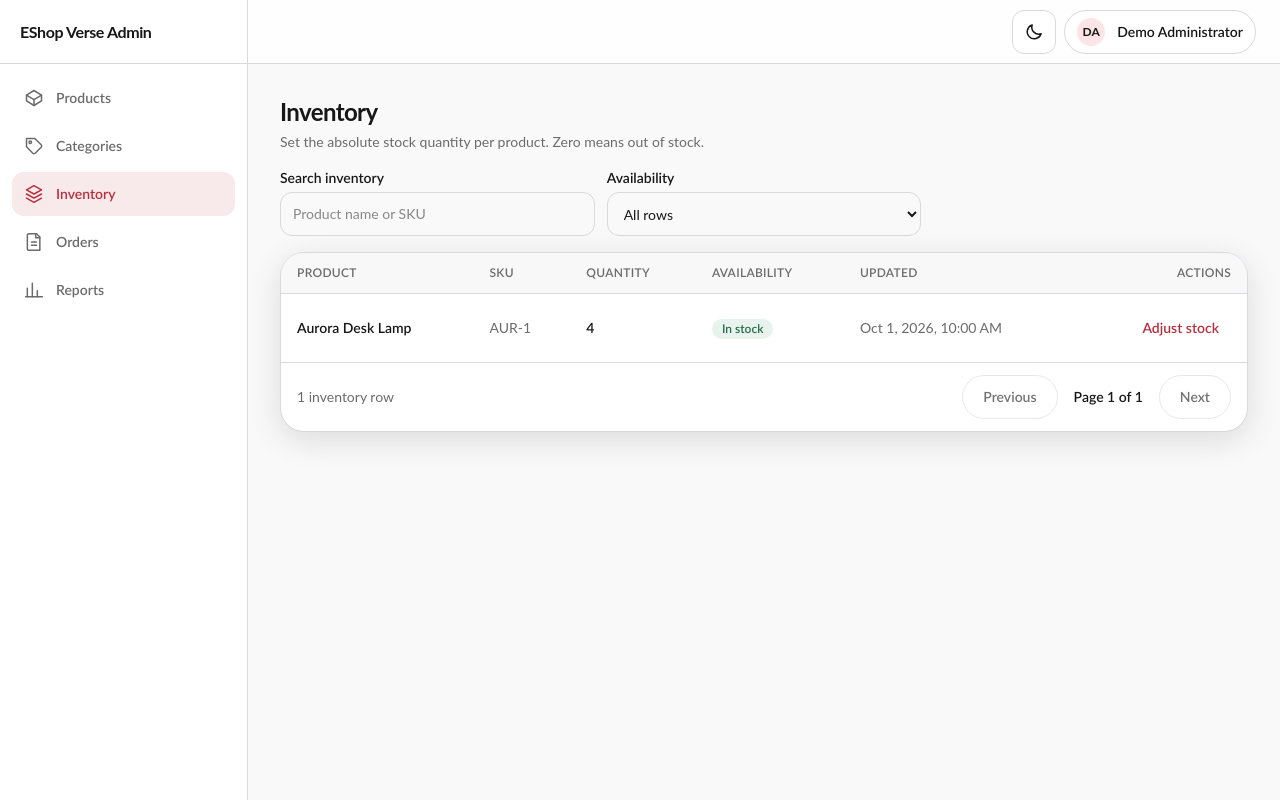
InventoryPage (A-05) › adjust_stock_validates_and_saves_the_absolute_quantity
This screenshot has width=1280, height=800.
Click the button with aria-label "Adjust stock for Aurora Desk Lamp": (1181, 328) [1130,306,1231,350]
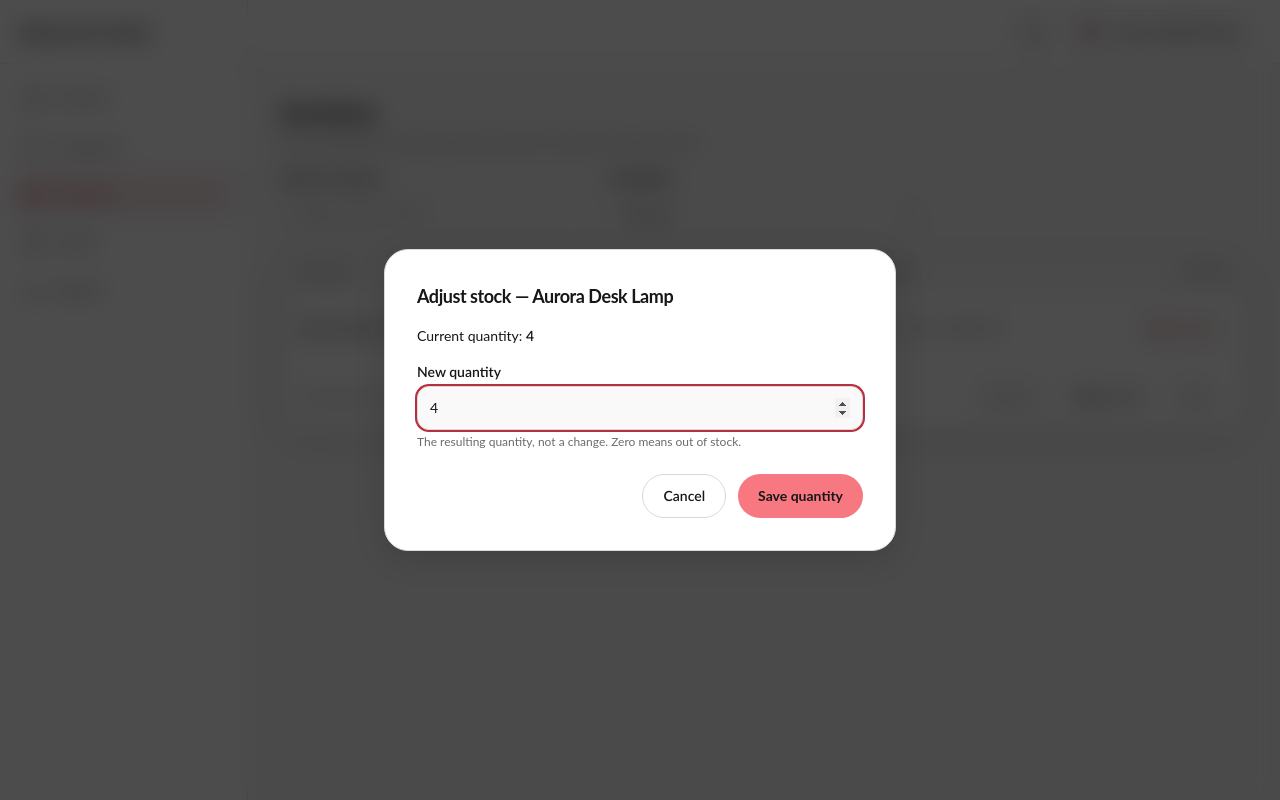
expect the text "Current quantity: 4" is shown: met, box [417,327,534,344]
Replace the text in the number field labelled "New quantity" with "-1": (640, 408) [417,386,863,430]
Click the button "Save quantity": (801, 496) [738,474,863,518]
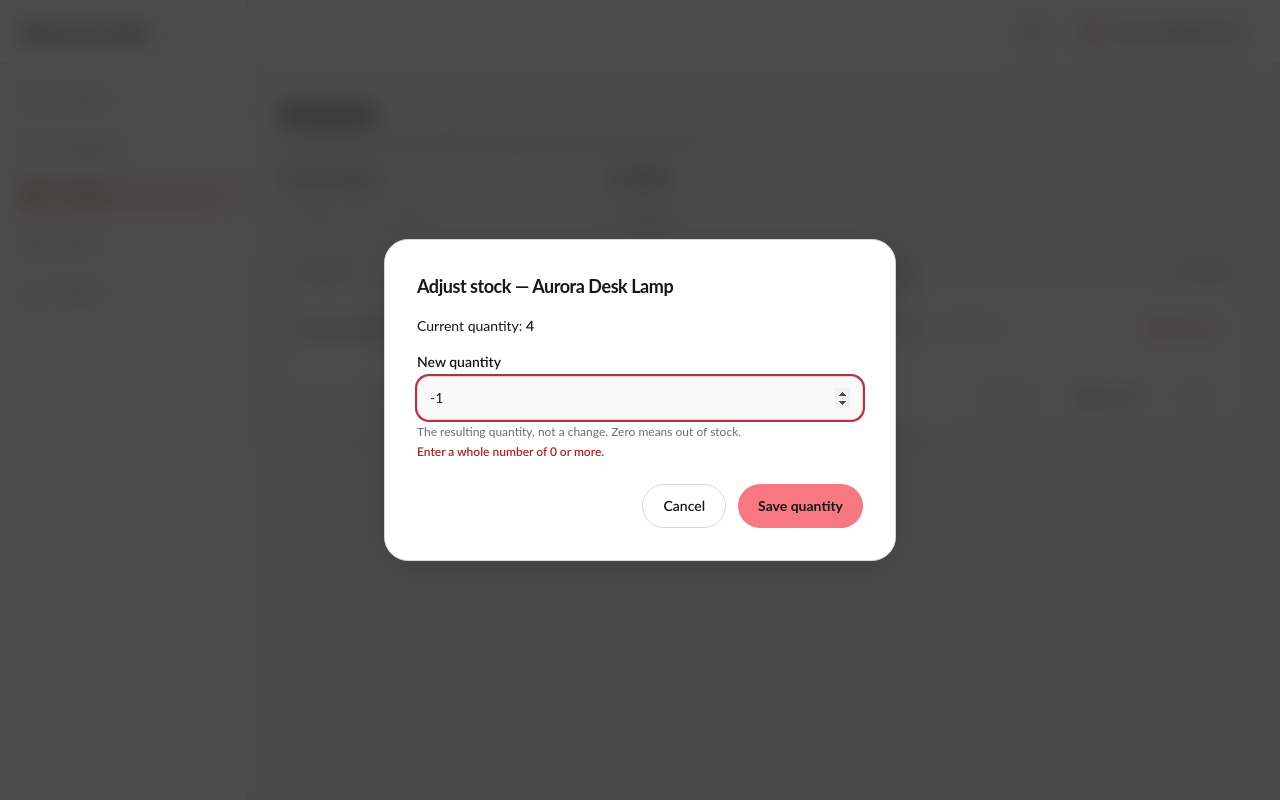
expect the text "Enter a whole number of 0 or more." is shown: met, box [417,444,604,459]
Replace the text in the number field labelled "New quantity" with "1000001": (640, 398) [417,376,863,420]
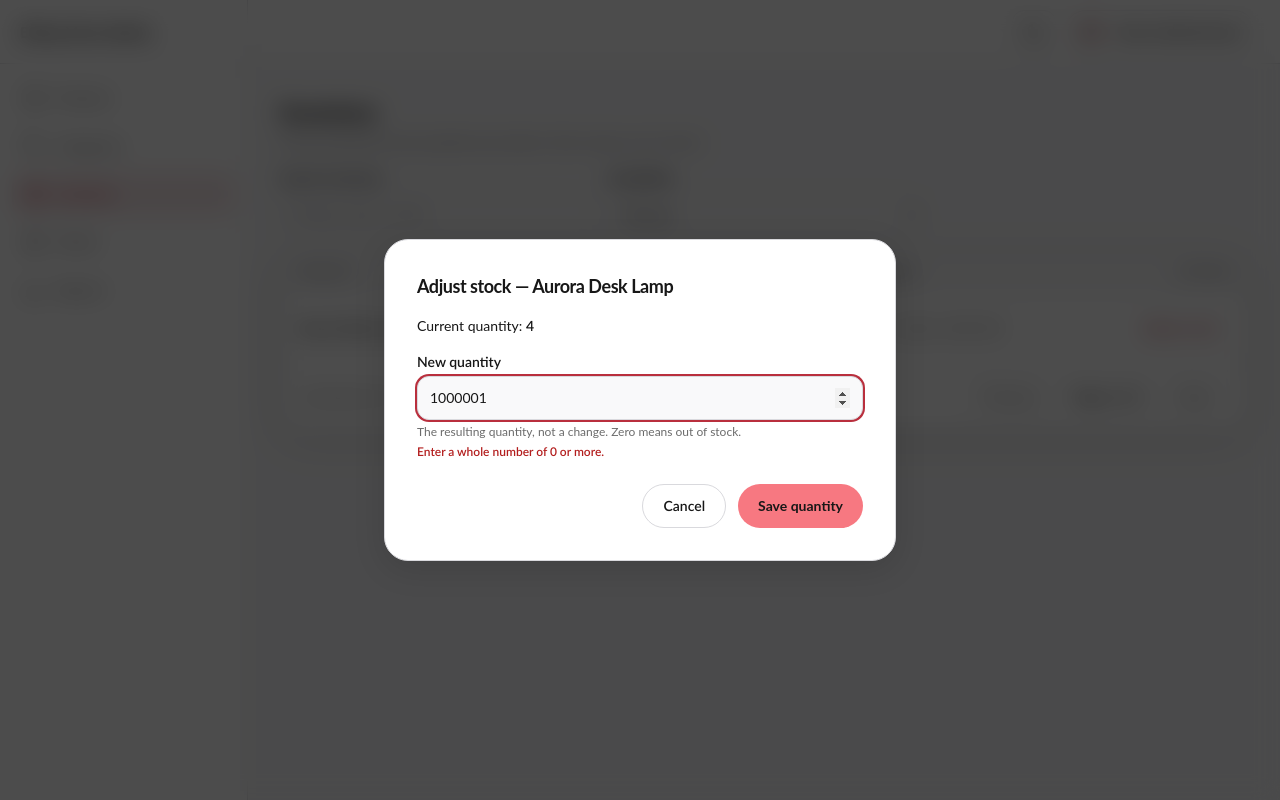
Click the button "Save quantity": (801, 506) [738,484,863,528]
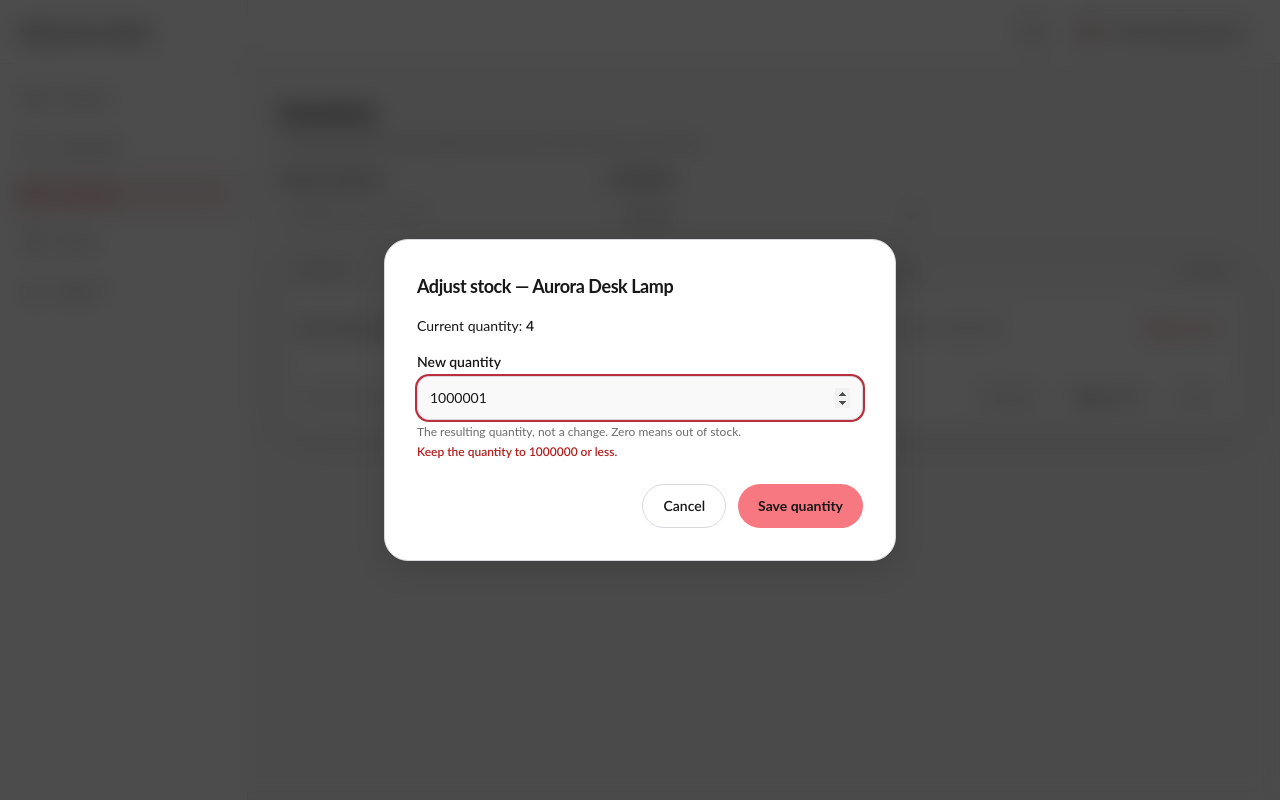
expect the text "Keep the quantity to 1000000 or less." is shown: met, box [417,444,617,459]
Replace the text in the number field labelled "New quantity" with "10": (640, 398) [417,376,863,420]
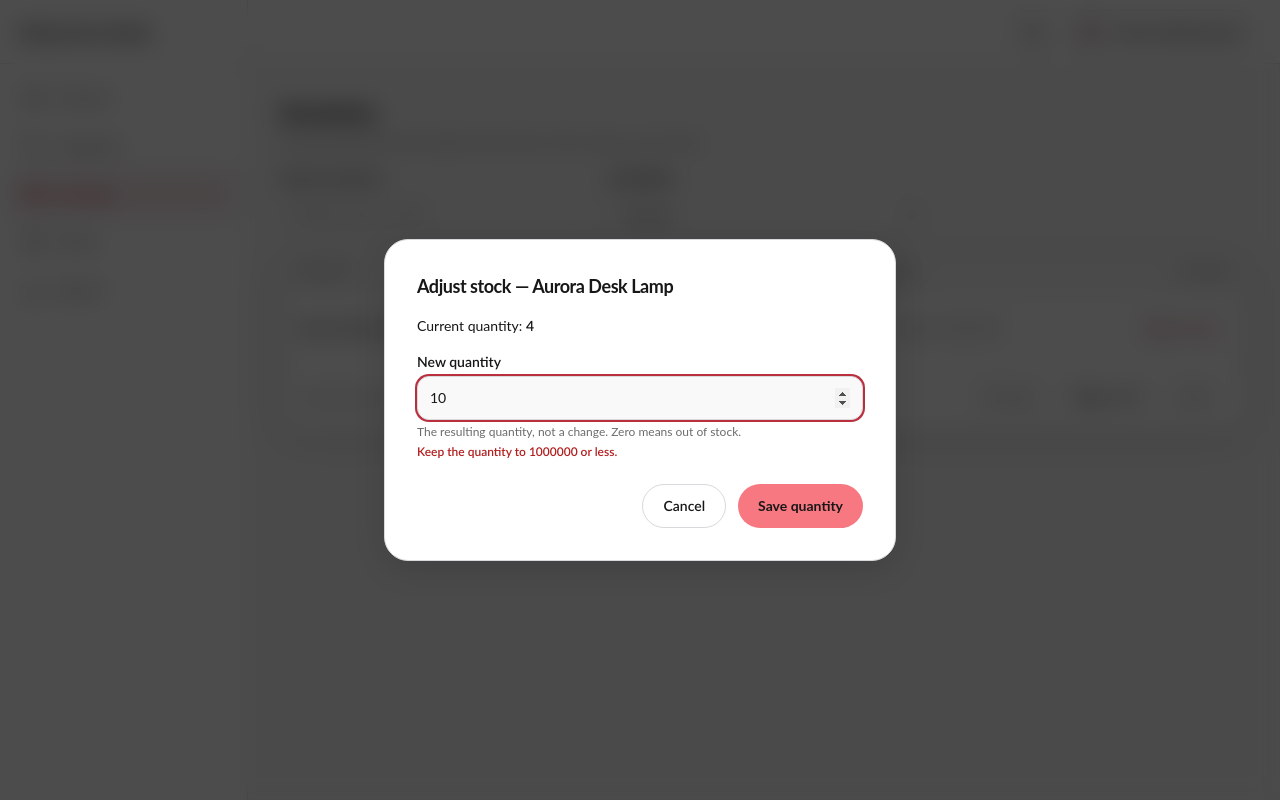
Click the button "Save quantity": (801, 506) [738,484,863,528]
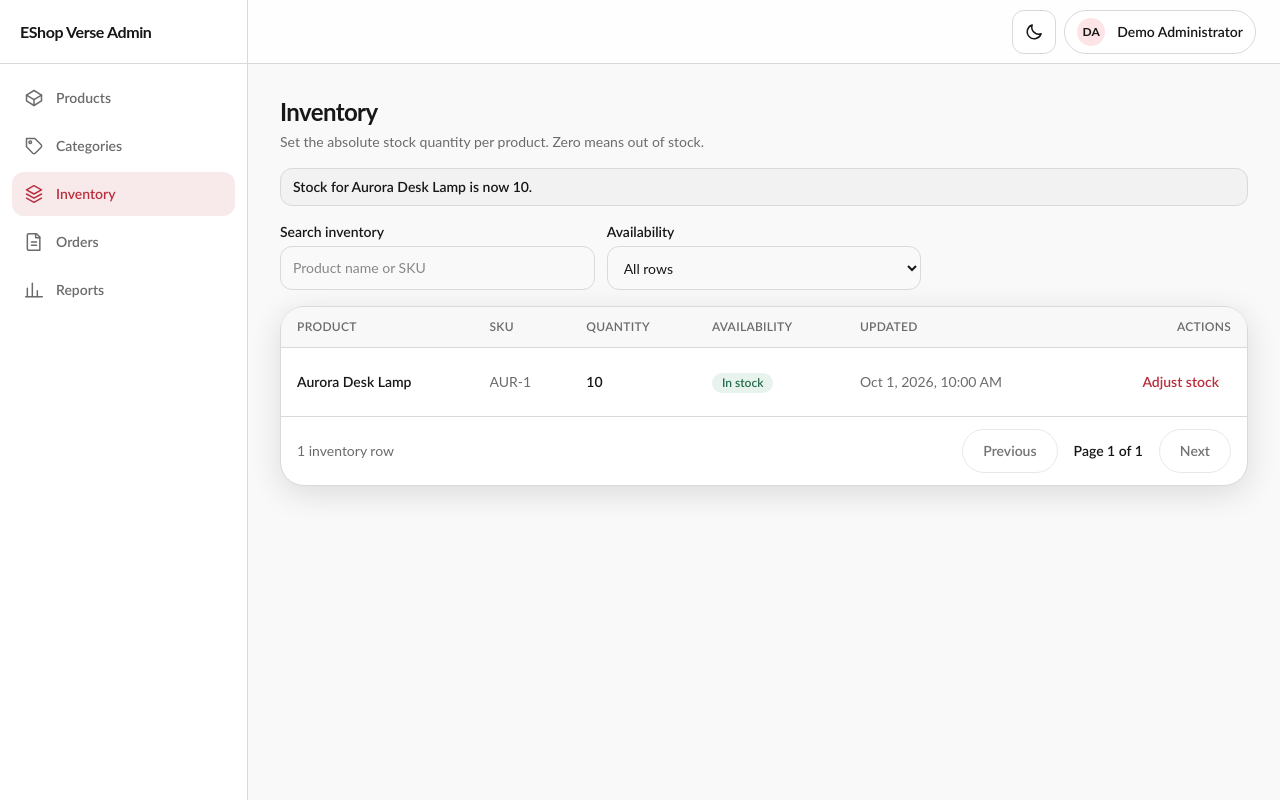
expect the message reads "Stock for Aurora Desk Lamp is now 10.": met, box [293,178,532,195]
expect the text "10" is shown: met, box [570,348,696,416]
